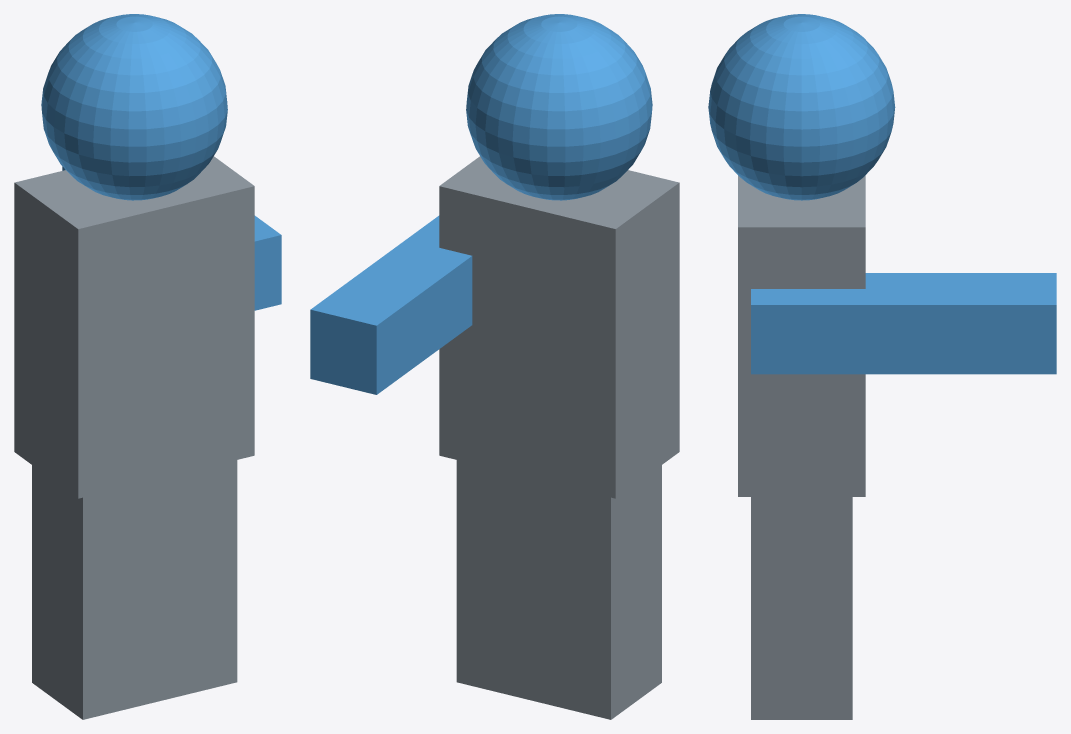
The model's file is SM_Alliance_AL_FieldEngineer_Blockout.fbx.
3 renders of one model, left to right at view 1: azimuth 30°, elevation 25°; view 2: azimuth 150°, elevation 25°; view 3: azimuth 270°, elevation 25°, orthographic.
Parts seen in each view (by area): view 1: Torso, Legs, Head, Weapon; view 2: Torso, Legs, Head, Weapon; view 3: Weapon, Torso, Head, Legs.
Boxes of the visible parts, left/top/right/bottom form: Torso: left=14, top=156, right=254, bottom=498; Legs: left=32, top=460, right=237, bottom=719; Head: left=41, top=14, right=227, bottom=200; Weapon: left=62, top=166, right=281, bottom=310; Torso: left=439, top=156, right=679, bottom=498; Legs: left=456, top=460, right=661, bottom=719; Head: left=466, top=14, right=652, bottom=200; Weapon: left=310, top=215, right=472, bottom=394; Weapon: left=751, top=273, right=1056, bottom=374; Torso: left=738, top=175, right=865, bottom=496; Head: left=708, top=14, right=895, bottom=200; Legs: left=751, top=497, right=852, bottom=719.
Size of the model in its own units: 57 by 171 by 82.
